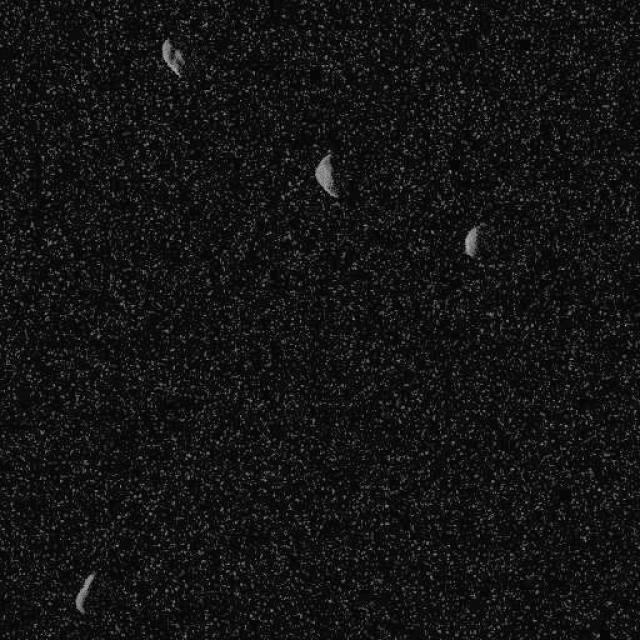D2: (312, 151, 338, 199), (160, 36, 185, 78), (74, 571, 95, 614), (462, 224, 480, 258)
